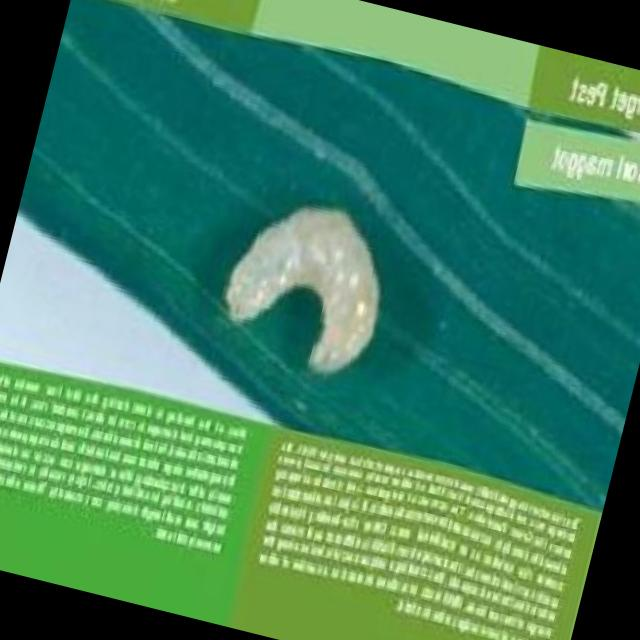whorl-maggot: (203, 175, 414, 388)
